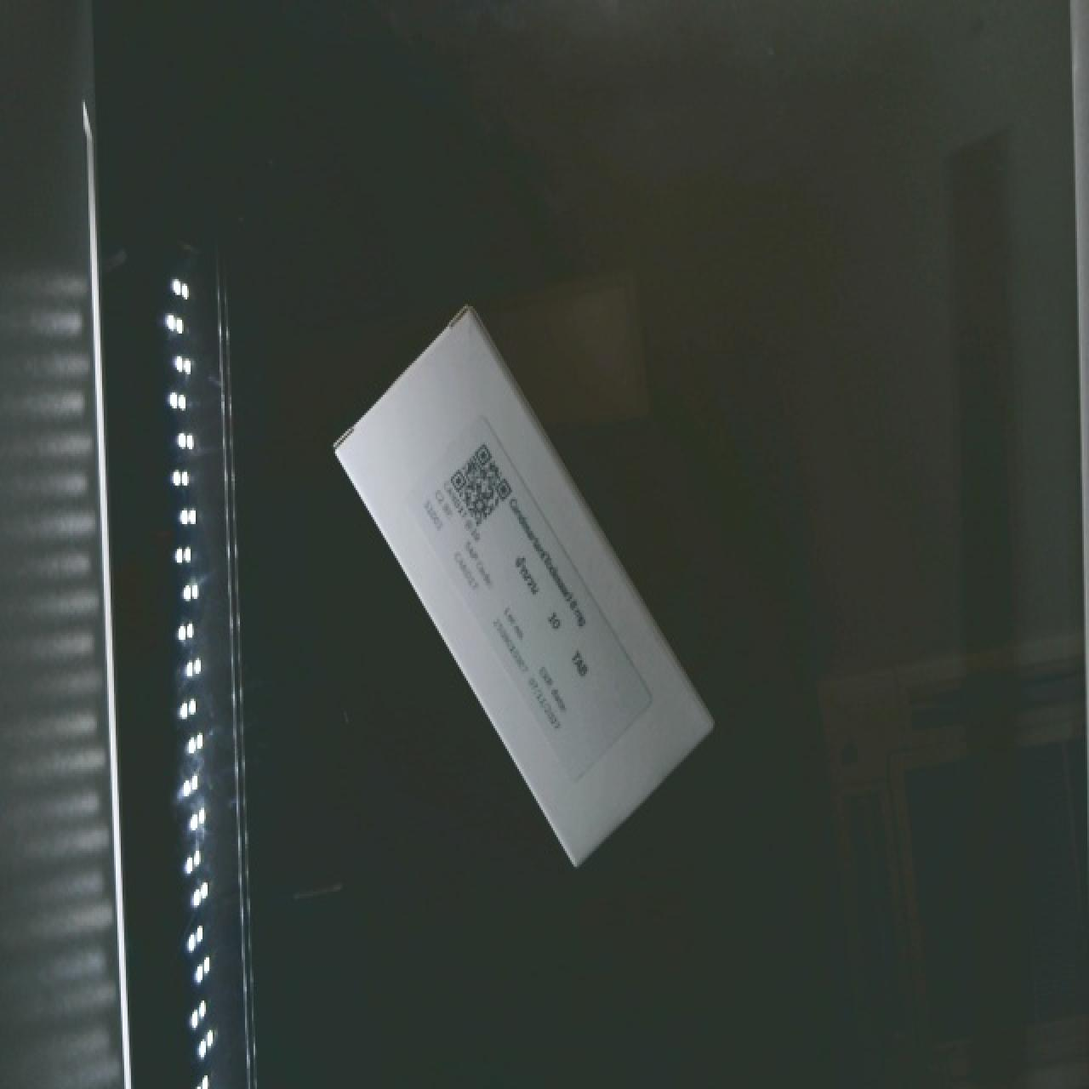qr_code: (418, 414, 544, 553)
